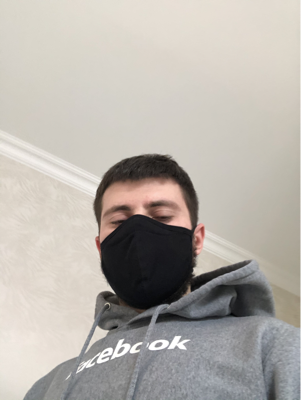with_mask: (101, 195, 194, 308)
